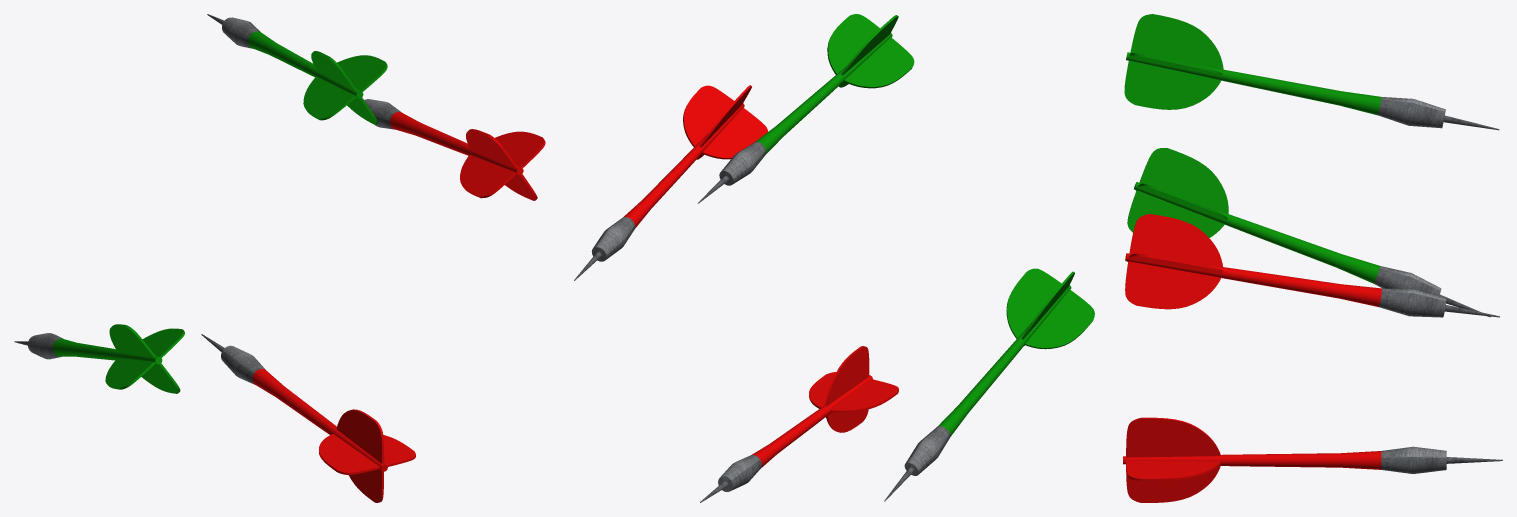
The model's file is Darts.FBX.
3 renders of one model, left to right at view 1: azimuth 30°, elevation 25°; view 2: azimuth 150°, elevation 25°; view 3: azimuth 270°, elevation 25°, orthographic. The views are drawn at different scales.
Parts seen in each view (by area): view 1: Dart 1, Dart 2, Dart 3, Dart 4; view 2: Dart 4, Dart 3, Dart 2, Dart 1; view 3: Dart 3, Dart 2, Dart 1, Dart 4.
Part boxes in pixels (x1,y1,x2,y2): Dart 1: (201,334,415,502); Dart 2: (364,99,545,200); Dart 3: (207,14,387,124); Dart 4: (14,324,184,393); Dart 4: (884,268,1094,501); Dart 3: (697,14,914,203); Dart 2: (574,85,767,280); Dart 1: (700,346,898,502); Dart 3: (1124,14,1499,130); Dart 2: (1125,214,1499,317); Dart 1: (1123,417,1502,502); Dart 4: (1127,148,1490,317).
Size of the model in its own units: 23.9 by 24.27 by 17.84.
1 material, 1 textured.
